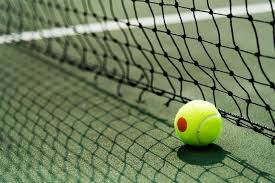tennis_ball: (173, 99, 224, 148)
